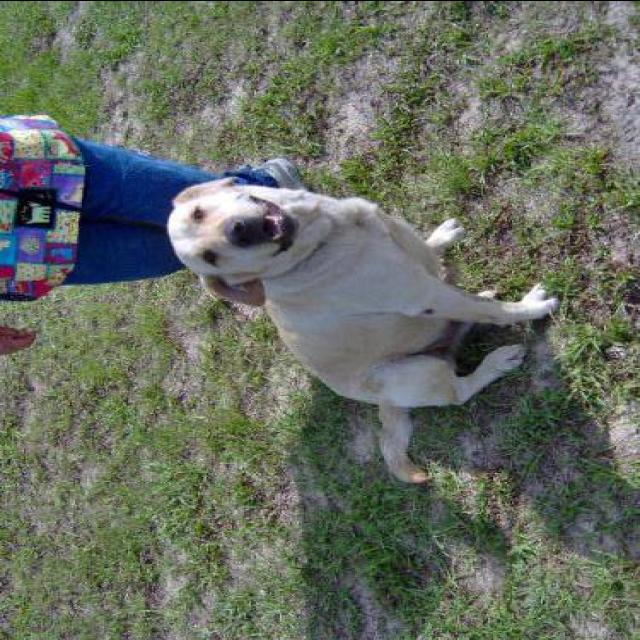dog: (142, 156, 550, 472)
